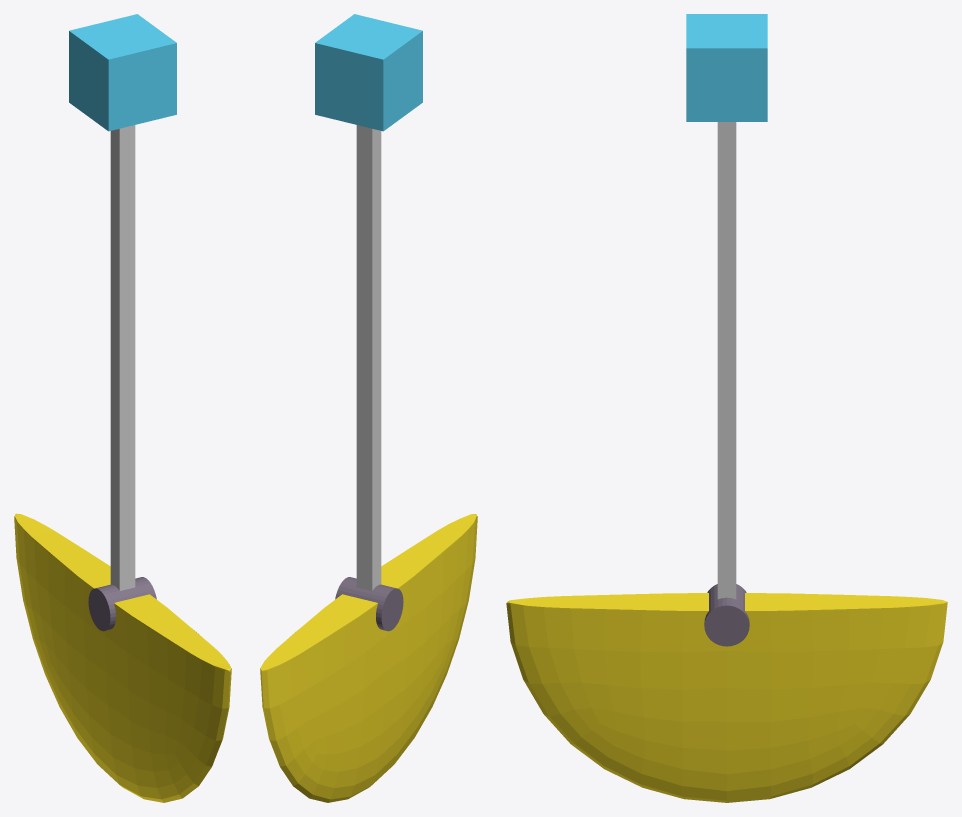
Rendered from Axe.fbx.
3 views of the same model, side by side, from view 1: azimuth 30°, elevation 25°; view 2: azimuth 150°, elevation 25°; view 3: azimuth 270°, elevation 25° (orthographic). The views are drawn at different scales.
Parts seen in each view (by area): view 1: Axe, AxeTop; view 2: Axe, AxeTop; view 3: Axe, AxeTop.
Boxes of the visible parts, <box> form: Axe: <box>14,518,231,802</box>; AxeTop: <box>14,14,230,671</box>; Axe: <box>260,516,477,802</box>; AxeTop: <box>260,14,476,672</box>; Axe: <box>506,603,947,802</box>; AxeTop: <box>507,14,947,646</box>.
Bounding box in the file's own units: 36.88 × 386 × 200.
